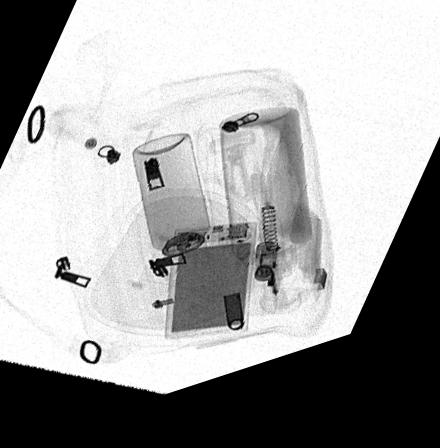Lighter: (249, 258, 283, 332)
Powerbank: (163, 240, 257, 349)
Sprayer: (131, 145, 210, 283)
